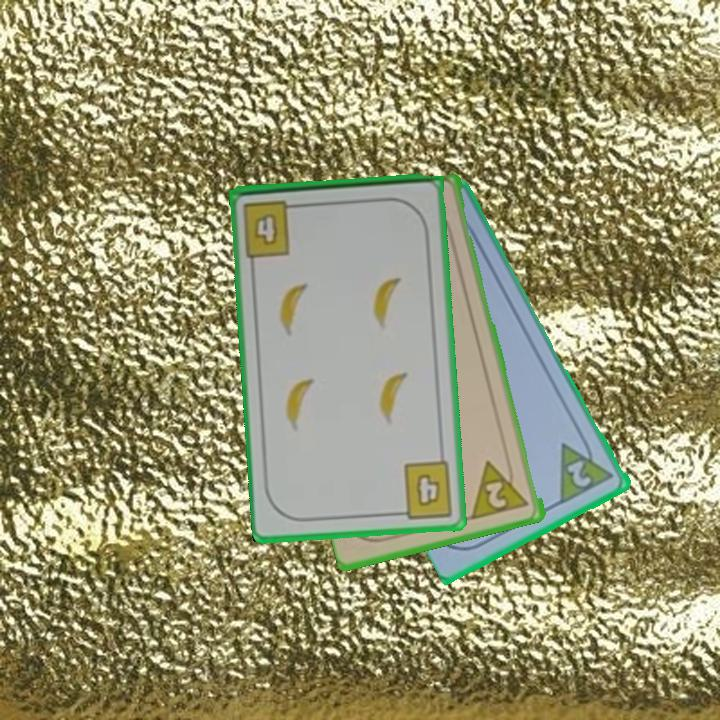2p: (556, 430, 618, 507), (482, 478, 511, 512)
4b: (239, 196, 304, 260), (392, 458, 456, 521)
